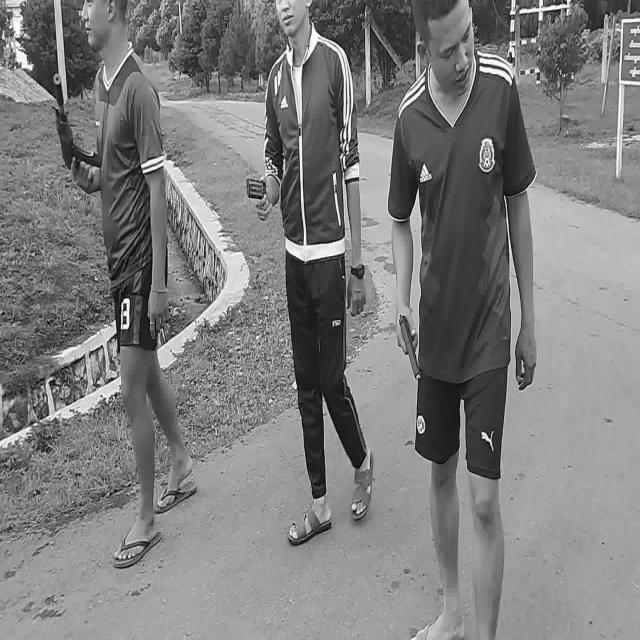gun: (53, 73, 103, 183), (398, 315, 421, 381)
